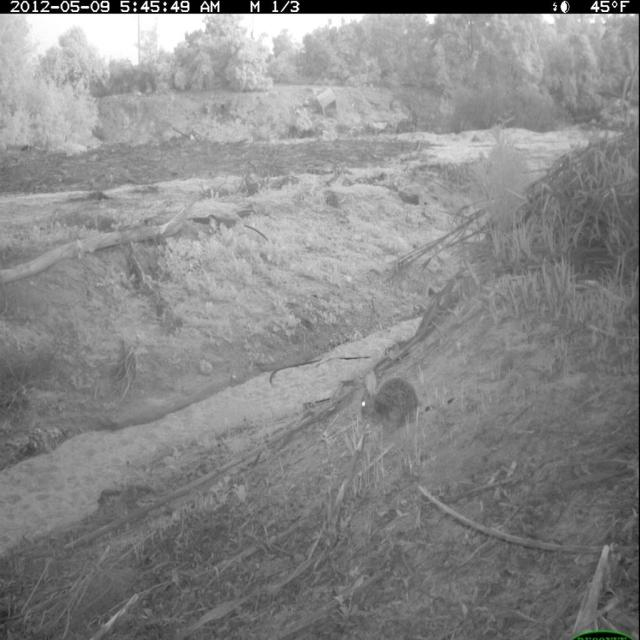rabbit: (356, 363, 425, 440)
